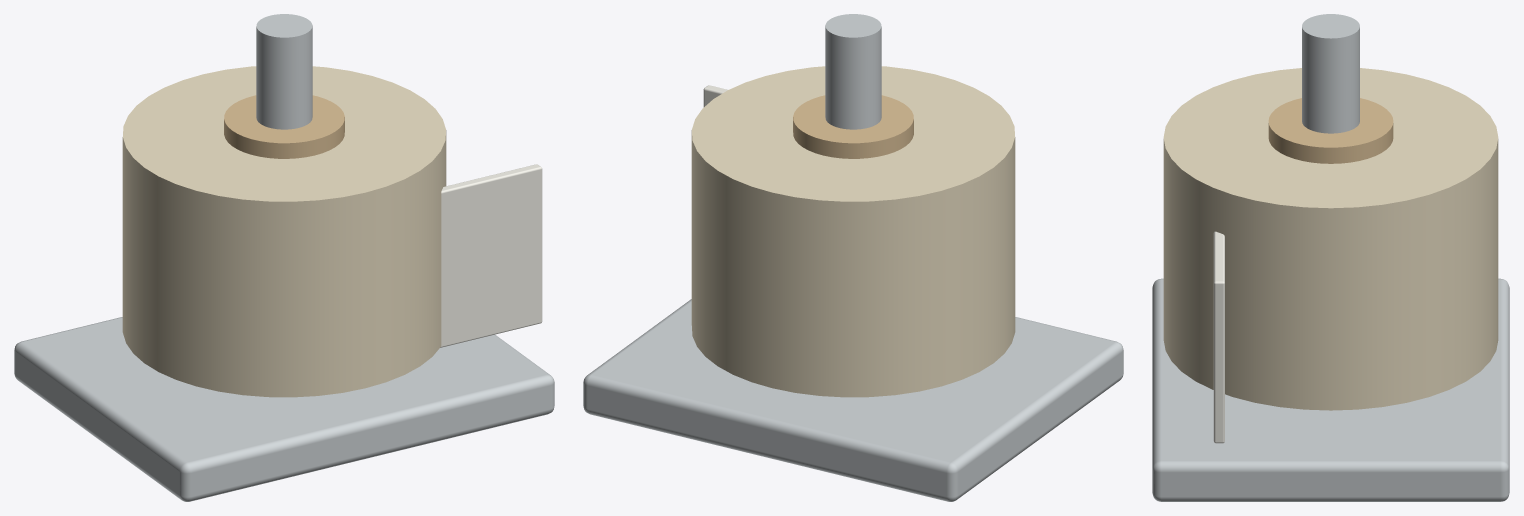
File: candlemaking-and-soap-workshop-label-roll-holder-910451a3__30685.glb
The picture shows the model from 3 angles, left to right: view 1: azimuth 30°, elevation 25°; view 2: azimuth 150°, elevation 25°; view 3: azimuth 270°, elevation 25°; orthographic projection. The views are drawn at different scales.
Parts seen in each view (by area): view 1: label-roll-holder; view 2: label-roll-holder; view 3: label-roll-holder.
Boxes of the visible parts, x1,y1,x2,y2 form: label-roll-holder: (14,14,554,501); label-roll-holder: (583,14,1123,501); label-roll-holder: (1152,14,1509,501).
Bounding box in the file's own units: 0.208 × 0.19 × 0.16.
